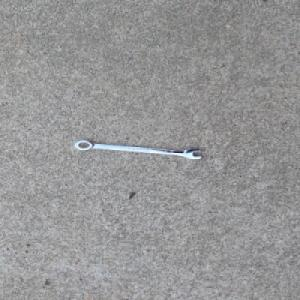Wrench: (73, 139, 203, 160)
